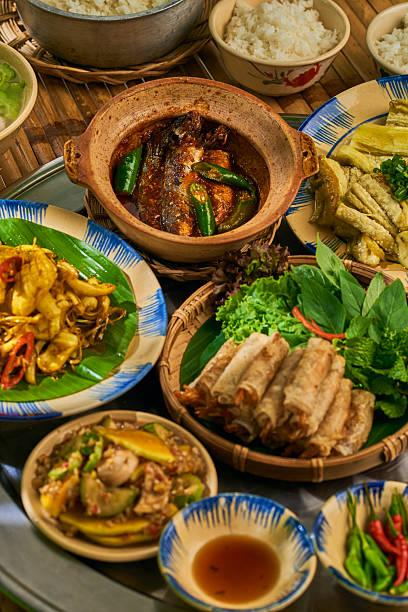Braised Crucian Carp: (157, 259, 402, 479), (63, 76, 316, 262), (0, 203, 166, 419), (21, 408, 216, 559), (283, 74, 405, 273)
